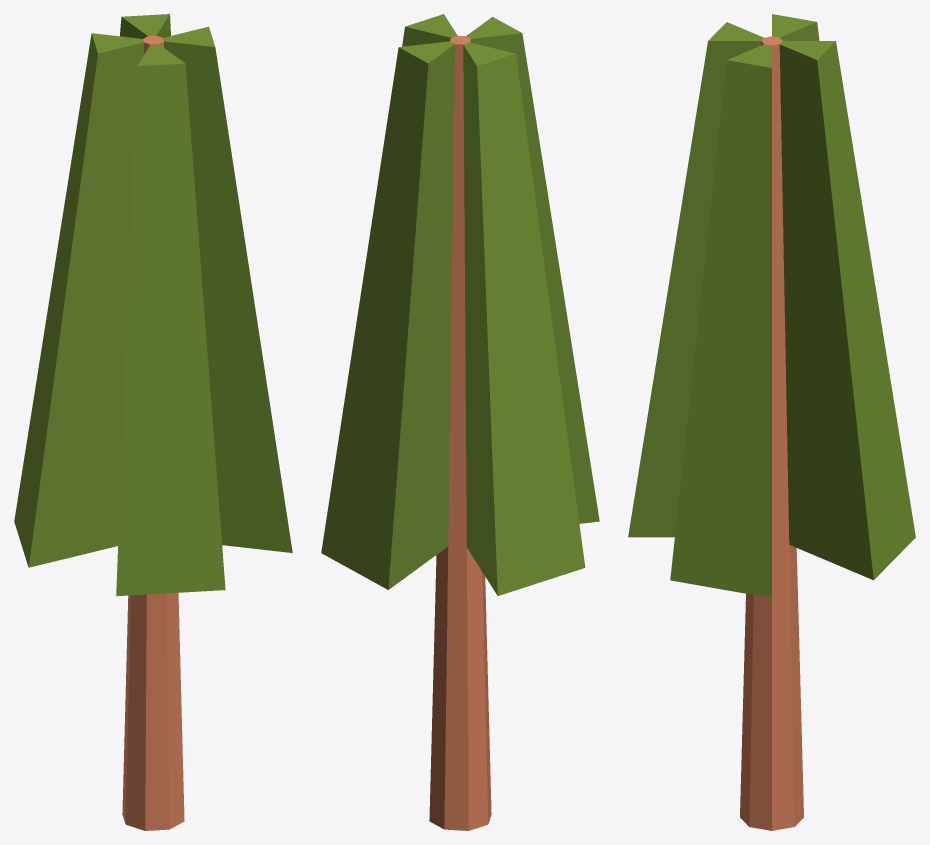
Rendered from tree4.gltf.
3 views of the same model, side by side, from view 1: azimuth 30°, elevation 25°; view 2: azimuth 150°, elevation 25°; view 3: azimuth 270°, elevation 25° (orthographic).
Parts seen in each view (by area): view 1: Tree_28_autumn_mat; view 2: Tree_28_autumn_mat; view 3: Tree_28_autumn_mat.
Part boxes in pixels (box(x1,y1,x2,y2)): Tree_28_autumn_mat: box(14, 14, 292, 830); Tree_28_autumn_mat: box(321, 14, 599, 830); Tree_28_autumn_mat: box(628, 14, 915, 830).
Size of the model in its own units: 3.96 by 11.78 by 3.96.
